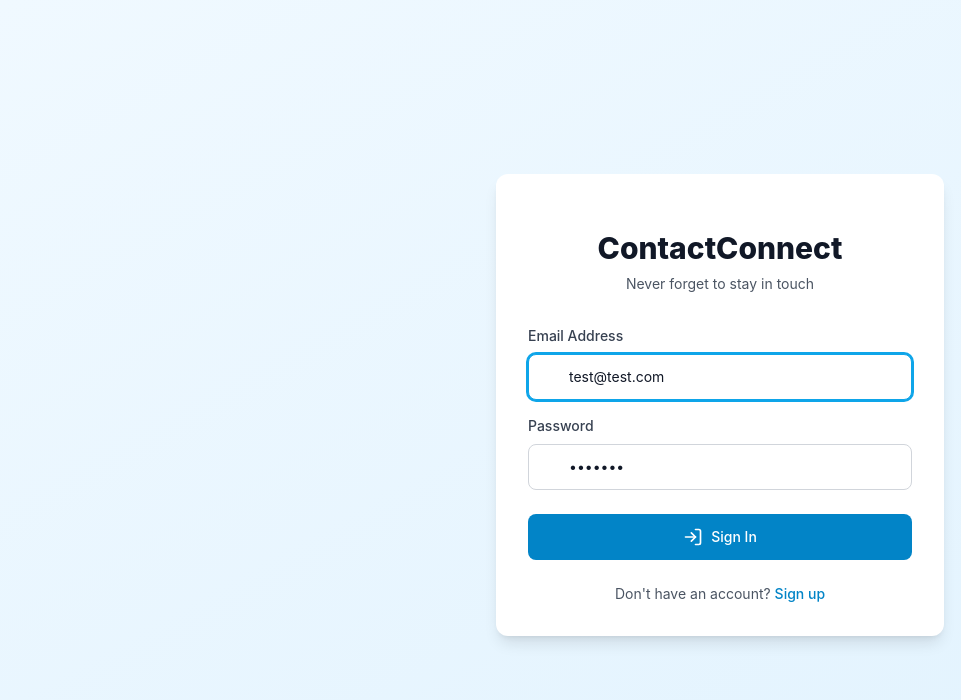
Test: Login Integration Tests › should show error if double-click login fails
This screenshot has width=961, height=700.
Double-click the button "Sign In" at coordinates (720, 537), box top-left (528, 514), bottom-right (912, 560)
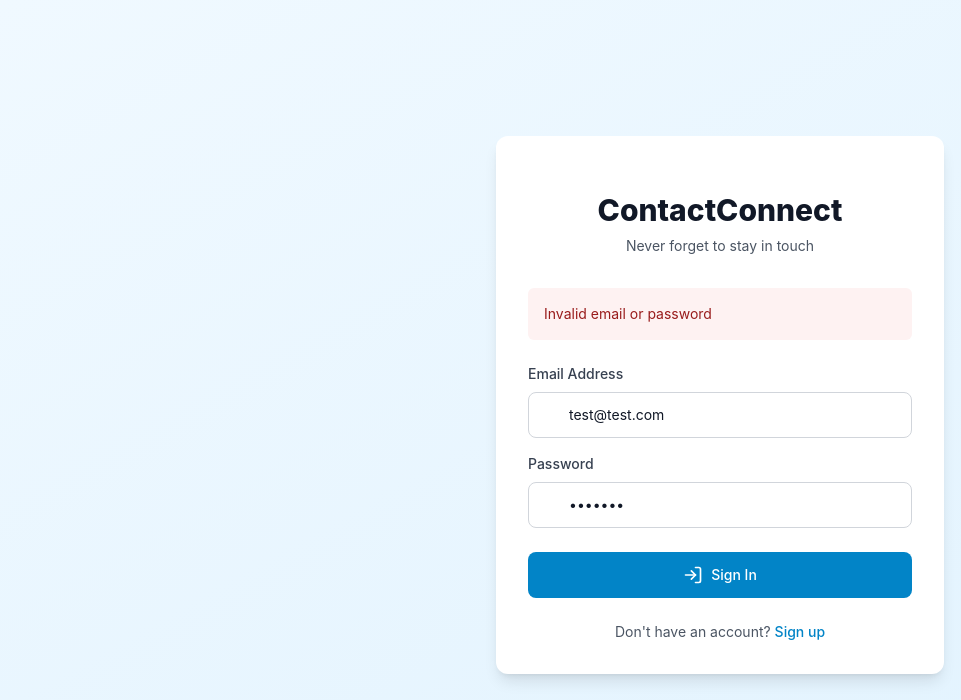
Check: the text "Invalid email or password" is shown, box top-left (544, 305), bottom-right (712, 322)
